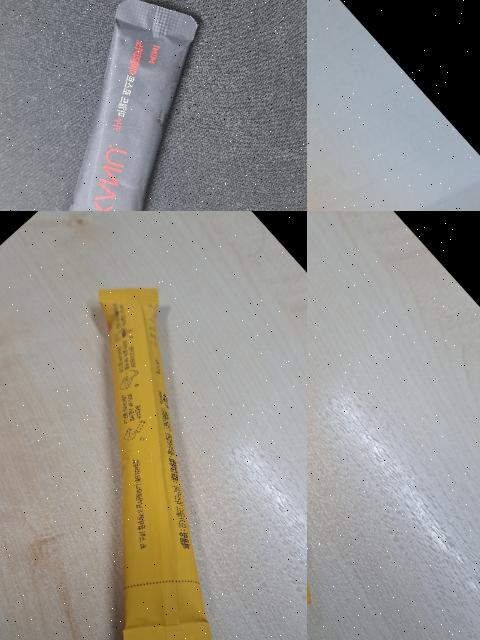KANU: (0, 0, 307, 211)
mix_coffee: (0, 246, 307, 640), (307, 211, 477, 640)
